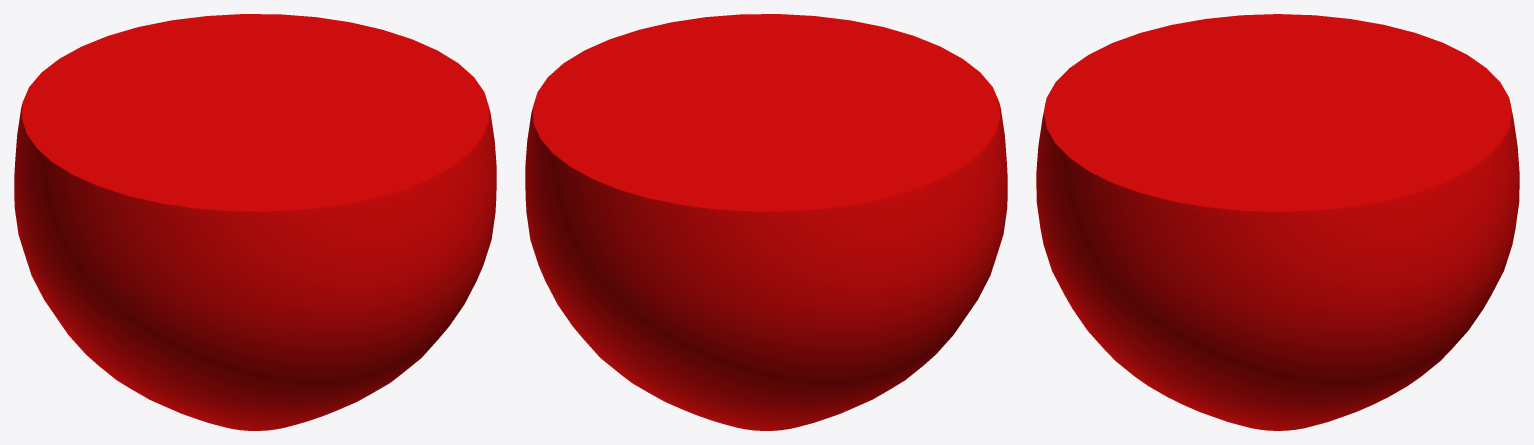
File: Liquid.fbx
3 views of the same model, side by side, from view 1: azimuth 30°, elevation 25°; view 2: azimuth 150°, elevation 25°; view 3: azimuth 270°, elevation 25° (orthographic).
Visible parts, largest first — view 1: Liquid1; view 2: Liquid1; view 3: Liquid1.
Part boxes in pixels (<box>): Liquid1: <box>14,14,496,430</box>; Liquid1: <box>525,14,1007,430</box>; Liquid1: <box>1036,14,1519,430</box>.
Bounding box in the file's own units: 2.07 × 1.4 × 2.07.
